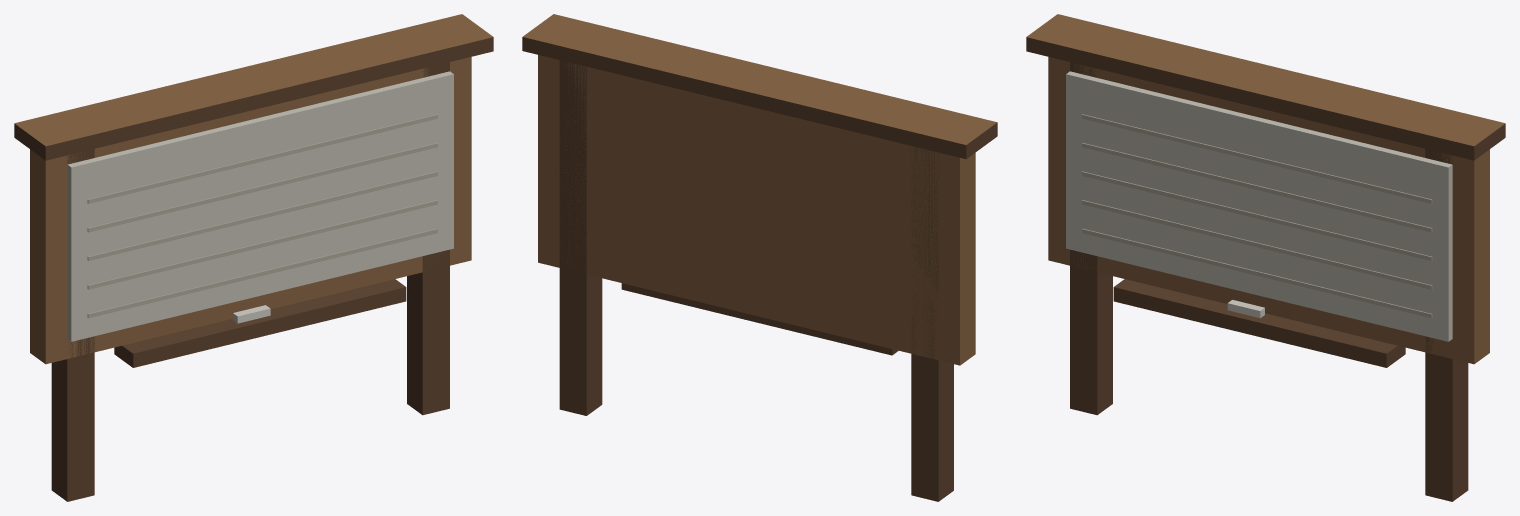
File: tally_board.glb
The picture shows the model from 3 angles, left to right: view 1: azimuth 30°, elevation 25°; view 2: azimuth 150°, elevation 25°; view 3: azimuth 330°, elevation 25°; orthographic projection.
Visible parts, largest first — view 1: tally_board; view 2: tally_board; view 3: tally_board.
Part boxes in pixels (x1=…): tally_board: x1=14, y1=14, x2=493, y2=501; tally_board: x1=522, y1=14, x2=997, y2=501; tally_board: x1=1026, y1=14, x2=1505, y2=501.
Size of the model in its own units: 1.64 by 1.3 by 0.2.
